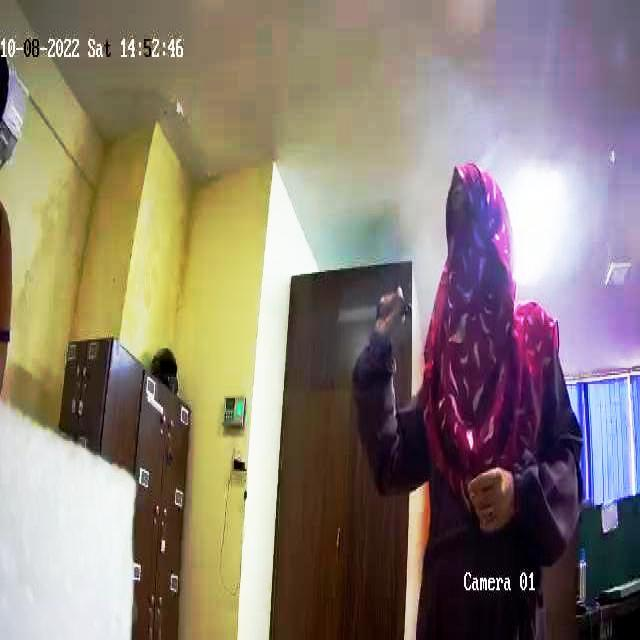Knife: (318, 282, 409, 338)
